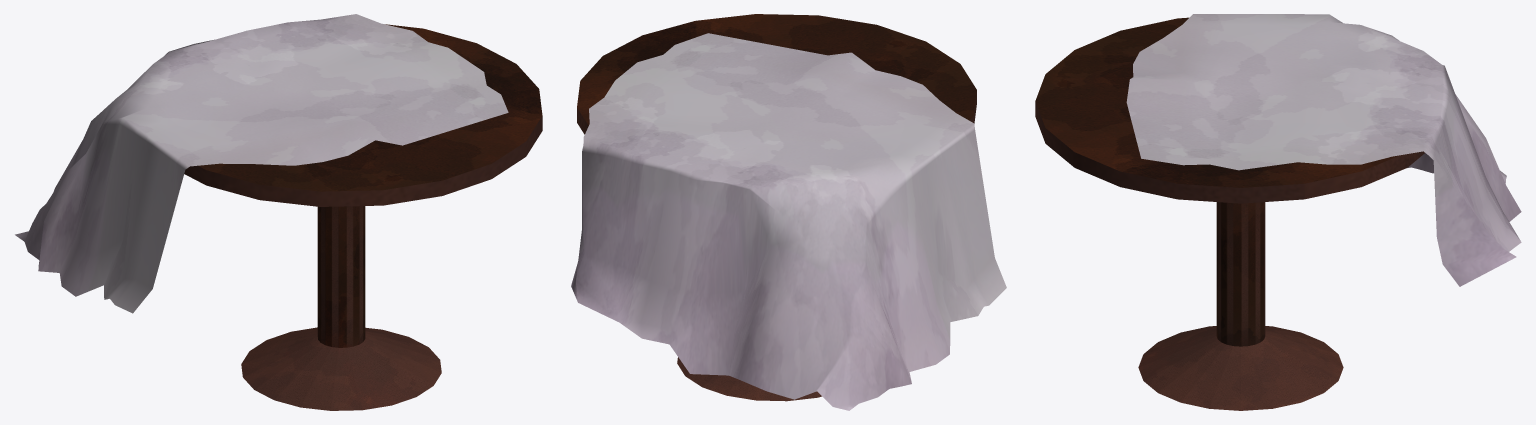
File: table.fbx
3 views of the same model, side by side, from view 1: azimuth 30°, elevation 25°; view 2: azimuth 150°, elevation 25°; view 3: azimuth 270°, elevation 25° (orthographic). The views are drawn at different scales.
Parts seen in each view (by area): view 1: table_cloth, desk; view 2: table_cloth, desk; view 3: table_cloth, desk.
Part boxes in pixels (<box>): table_cloth: <box>15,14,508,313</box>; desk: <box>184,24,542,410</box>; table_cloth: <box>571,33,1006,410</box>; desk: <box>577,14,976,401</box>; table_cloth: <box>1126,14,1521,286</box>; desk: <box>1035,17,1424,410</box>.
Size of the model in its own units: 7.07 by 4.67 by 7.41.
Materials: 1 (1 with a texture image).
